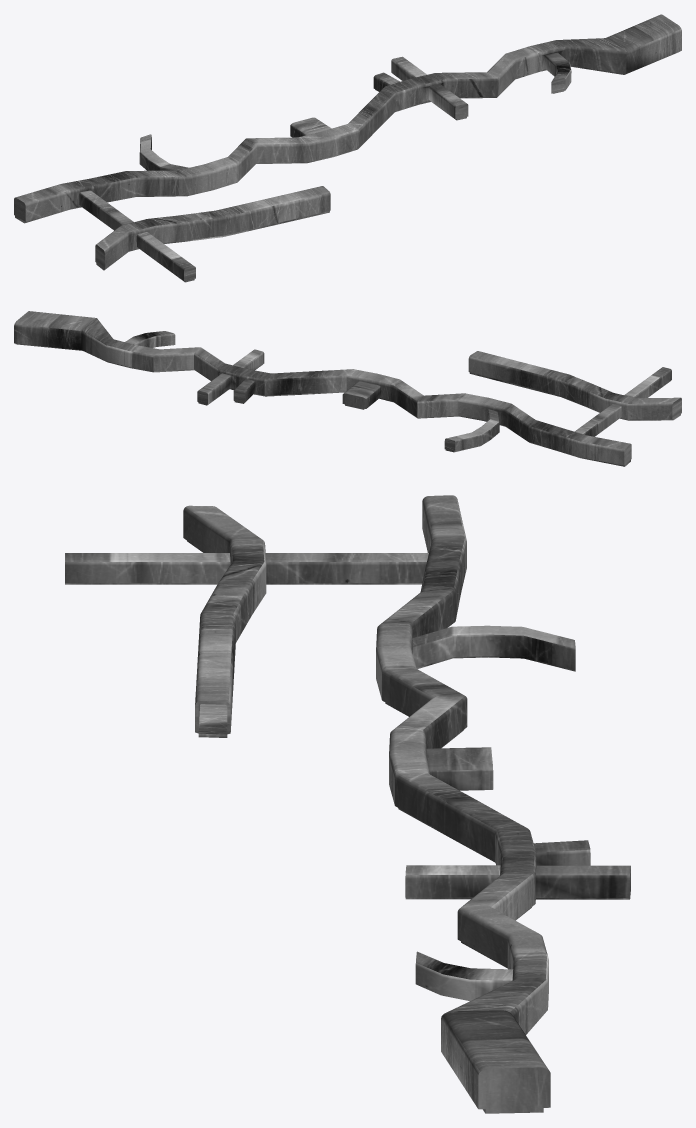
File: Tunnel Again.fbx
3 renders of one model, top to bottom at view 1: azimuth 30°, elevation 25°; view 2: azimuth 150°, elevation 25°; view 3: azimuth 270°, elevation 25°, orthographic. The views are drawn at different scales.
Parts seen in each view (by area): view 1: Plane.001; view 2: Plane.001; view 3: Plane.001.
Part boxes in pixels (x1,y1,x2,y2): Plane.001: (14,14,681,282); Plane.001: (14,311,681,466); Plane.001: (65,495,630,1113).
Bounding box in the file's own units: 76.1 × 2.84 × 31.69.
